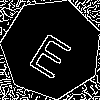E: (26, 24, 79, 80)
